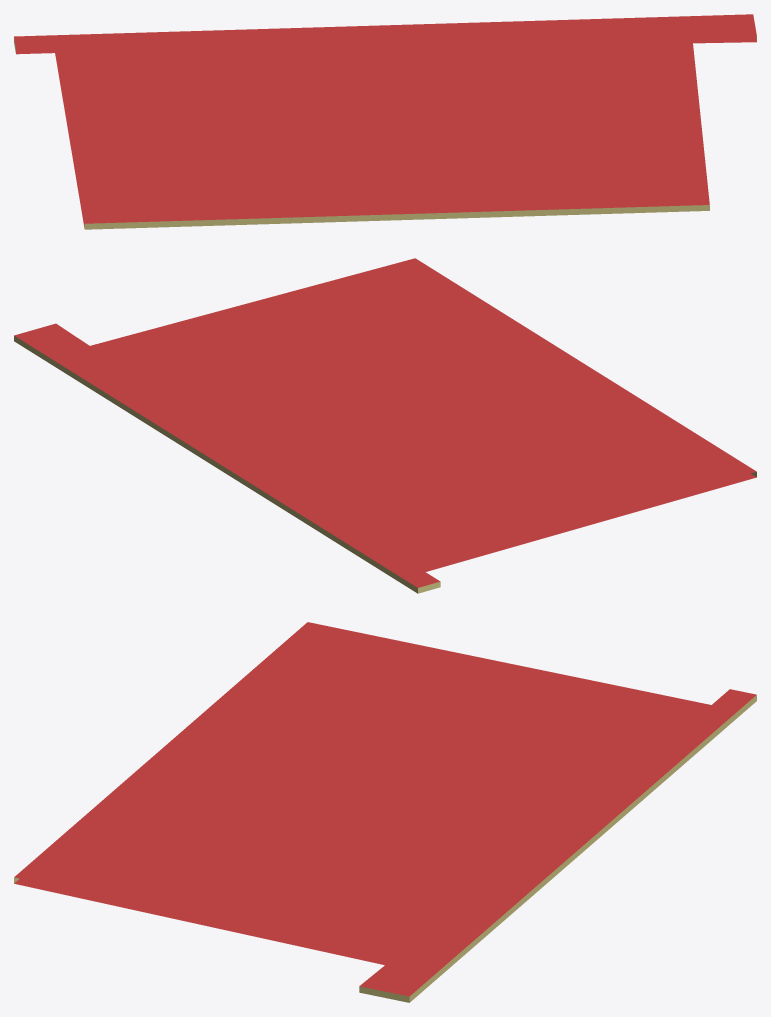
3 renders of one model, top to bottom at view 1: azimuth 30°, elevation 25°; view 2: azimuth 150°, elevation 25°; view 3: azimuth 270°, elevation 25°, orthographic. The views are drawn at different scales.
Size of the model in its own units: 12.61 by 10.57 by 0.1.
